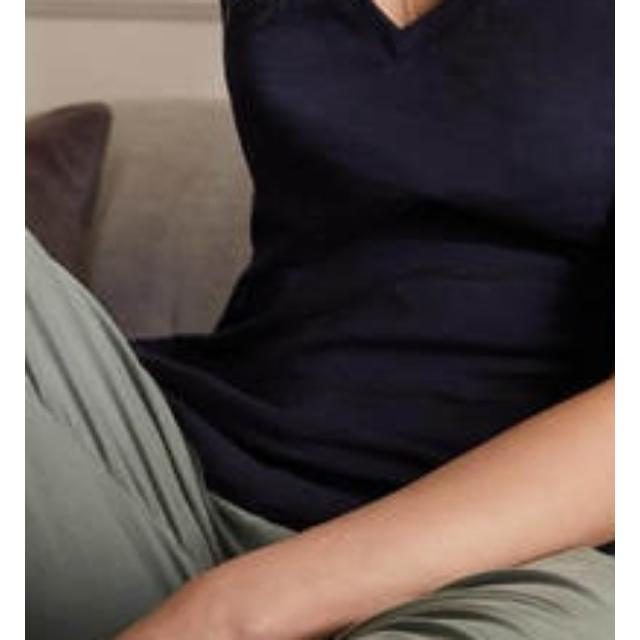cotton: (262, 42, 616, 324)
